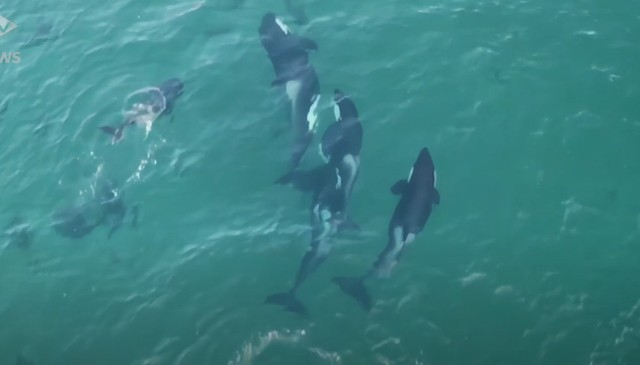whale: (329, 138, 445, 319), (265, 149, 379, 322), (246, 10, 335, 192), (92, 67, 192, 152), (319, 84, 370, 237)
